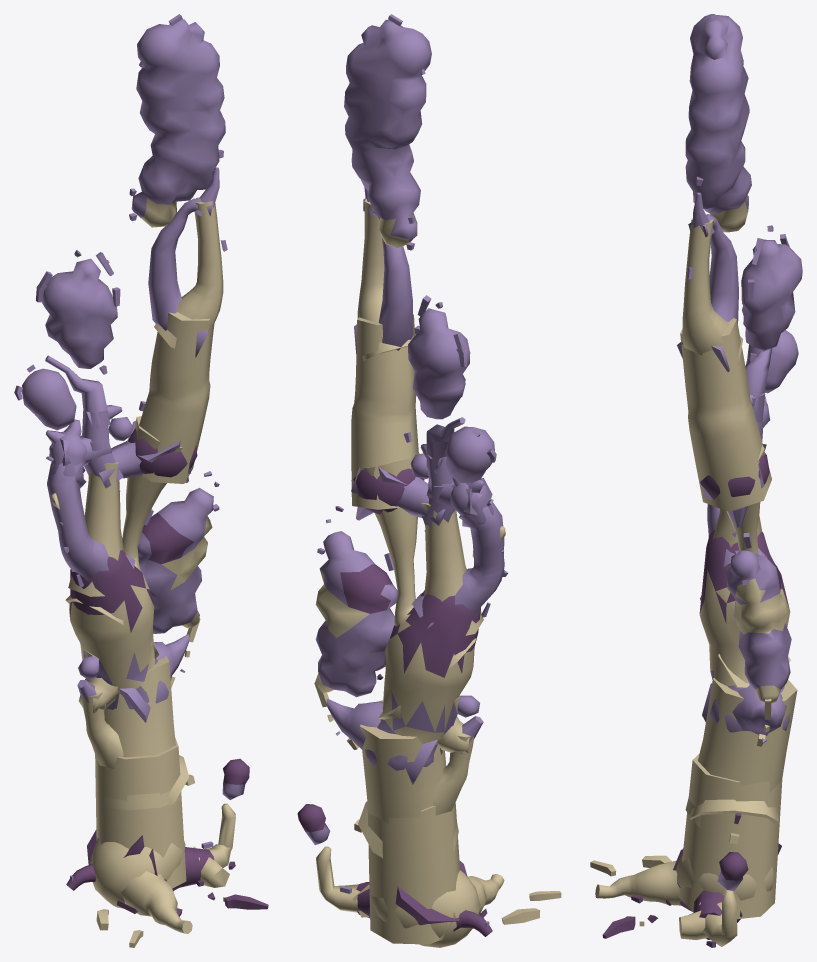
File: cuttlepop.glb
The picture shows the model from 3 angles, left to right: view 1: azimuth 30°, elevation 25°; view 2: azimuth 150°, elevation 25°; view 3: azimuth 270°, elevation 25°; orthographic projection. The views are drawn at different scales.
Visible parts, largest first — view 1: body; view 2: body; view 3: body.
Boxes of the visible parts, x1,y1,x2,y2 form: body: (14,14,268,947); body: (297,14,561,947); body: (590,14,802,947).
Size of the model in its own units: 1.4 by 5.6 by 1.17.
